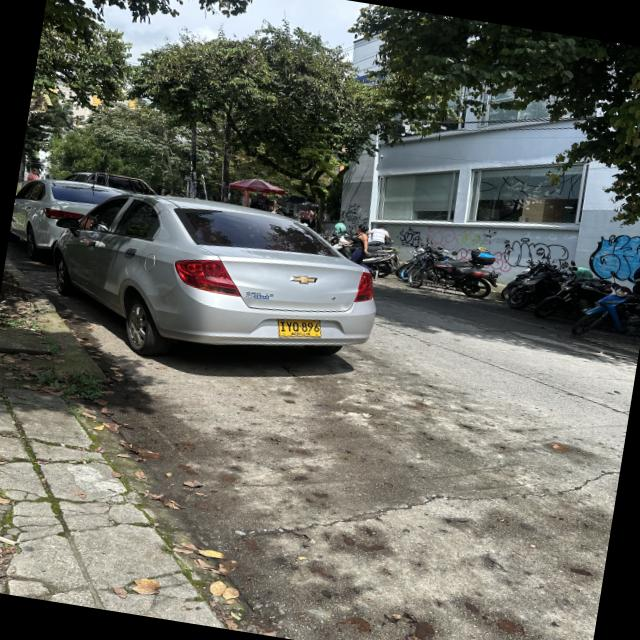number plate: (277, 319, 321, 337)
